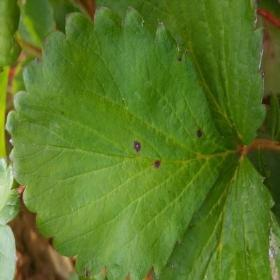Leaf Spot: (5, 6, 237, 279)
